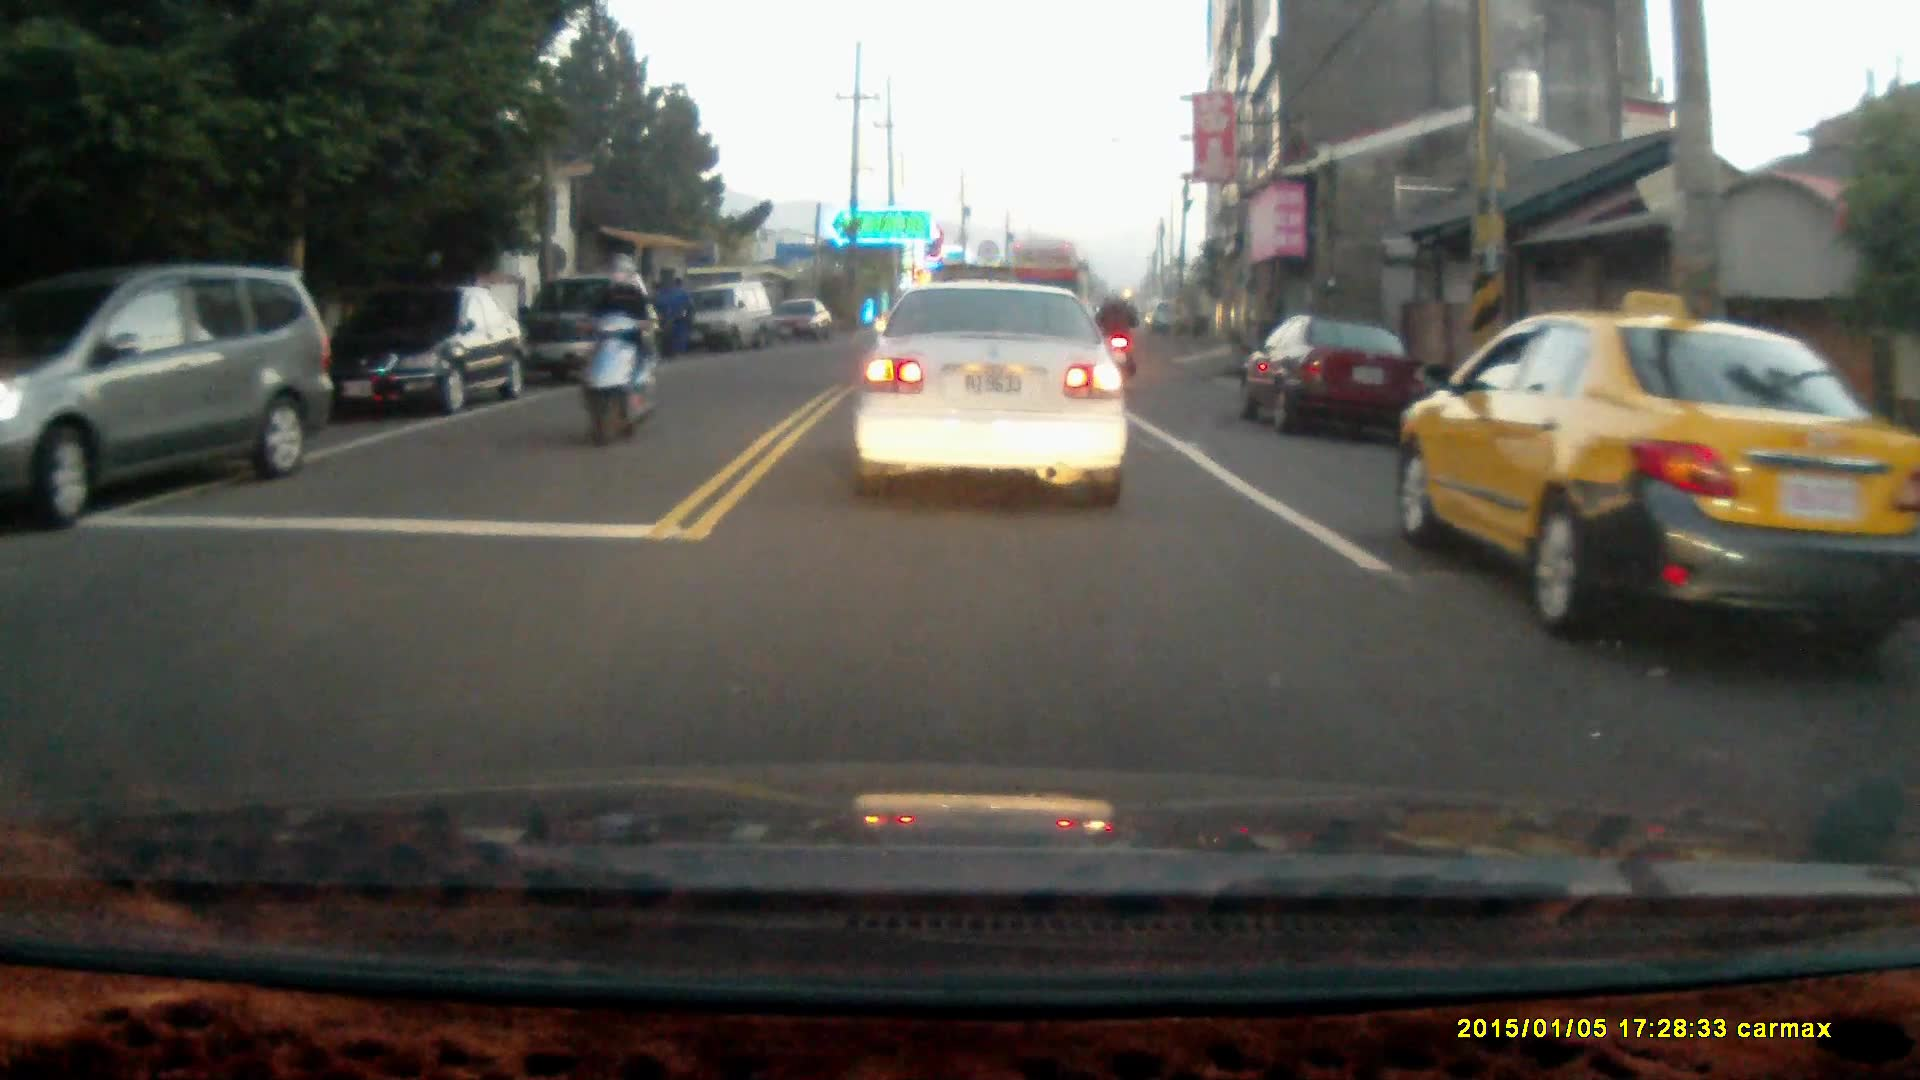pedestrian: (666, 273, 692, 355)
rider: (570, 248, 656, 448), (1084, 283, 1137, 395)
vehicle: (1391, 316, 1918, 655), (1, 264, 334, 527), (852, 285, 1127, 512), (316, 285, 535, 417), (1240, 316, 1429, 437), (512, 268, 669, 389), (671, 283, 773, 356), (758, 300, 835, 352)
